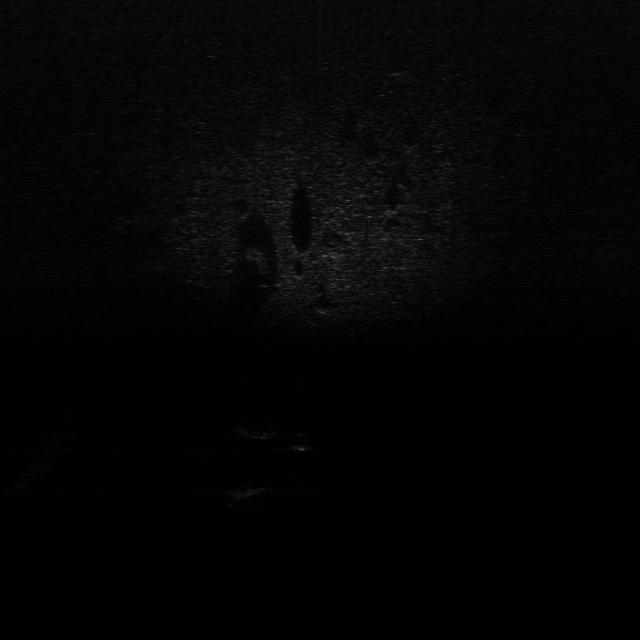ball: (288, 433, 318, 451)
square cage: (223, 482, 279, 503)
tyre: (230, 419, 280, 440)
